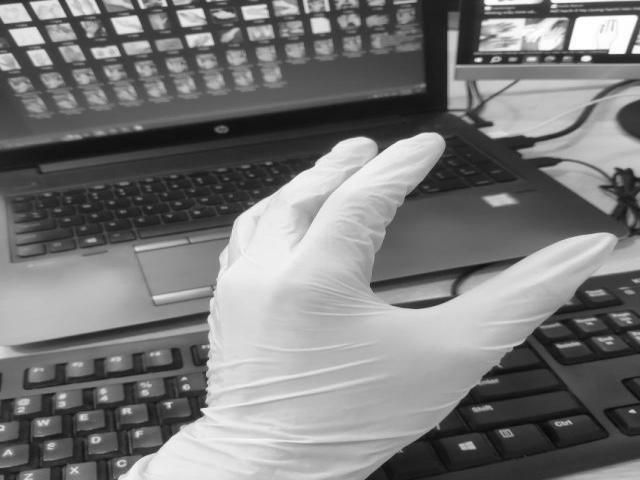gloved: (182, 135, 618, 480)
